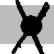not correct: (13, 0, 50, 54)
